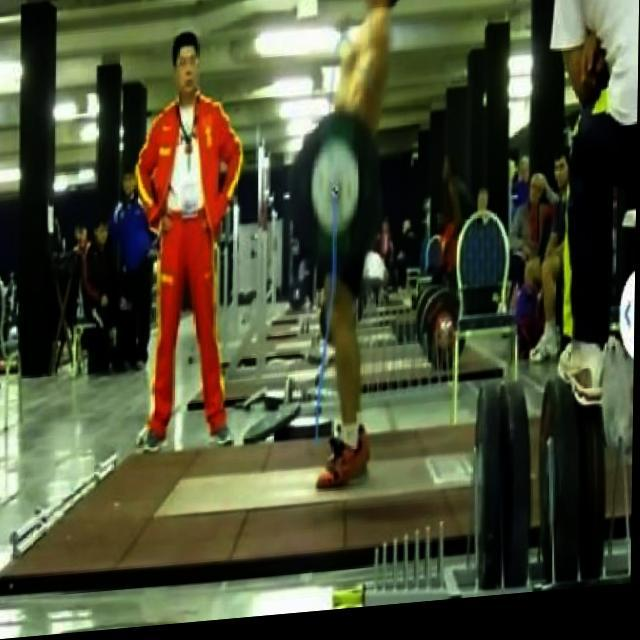barbell: (285, 115, 388, 285)
